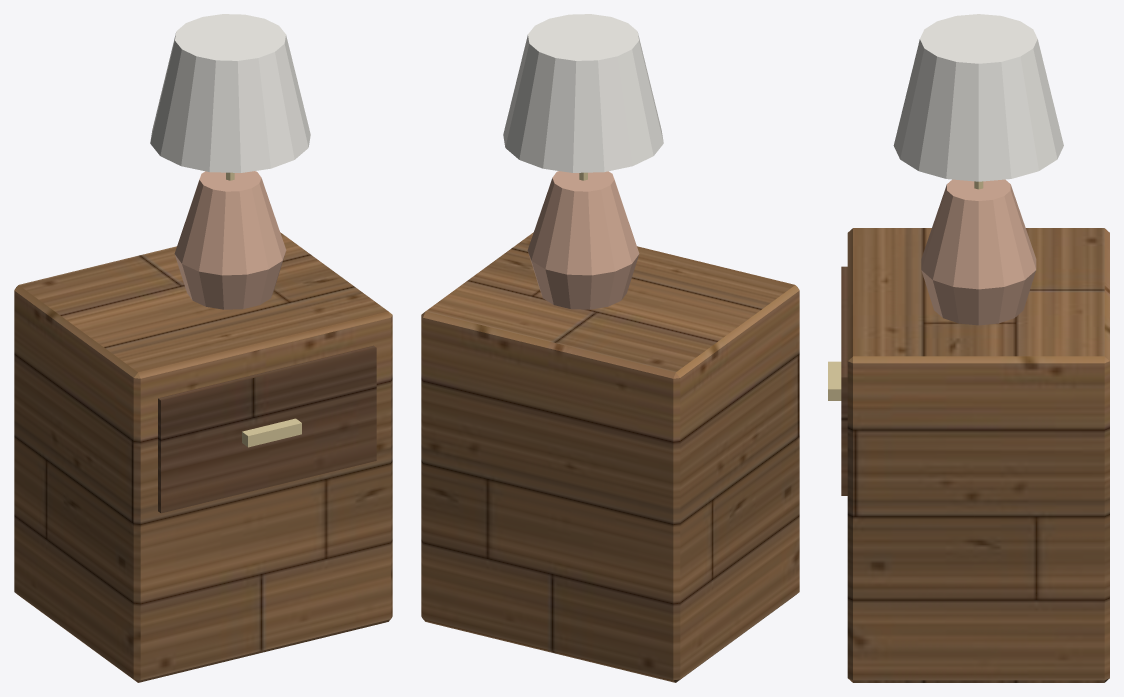
File: nightstand.glb
3 renders of one model, left to right at view 1: azimuth 30°, elevation 25°; view 2: azimuth 150°, elevation 25°; view 3: azimuth 270°, elevation 25°, orthographic. The views are drawn at different scales.
Visible parts, largest first — view 1: nightstand_timber, nightstand_dkwood, nightstand_lattice, nightstand_pot, nightstand_brass; view 2: nightstand_timber, nightstand_lattice, nightstand_pot; view 3: nightstand_timber, nightstand_lattice, nightstand_pot, nightstand_dkwood, nightstand_brass.
Part boxes in pixels (x1,y1,x2,y2): nightstand_timber: [14, 232, 392, 682]; nightstand_dkwood: [158, 345, 376, 513]; nightstand_lattice: [150, 14, 310, 172]; nightstand_pot: [174, 171, 286, 309]; nightstand_brass: [226, 172, 301, 447]; nightstand_timber: [421, 232, 799, 682]; nightstand_lattice: [503, 14, 663, 172]; nightstand_pot: [527, 171, 639, 309]; nightstand_timber: [847, 228, 1109, 682]; nightstand_lattice: [893, 14, 1063, 181]; nightstand_pot: [921, 179, 1036, 325]; nightstand_dkwood: [841, 266, 847, 495]; nightstand_brass: [828, 181, 983, 400].
Bounding box in the file's own units: 0.48 × 1 × 0.43.
5 materials, 2 textured.
